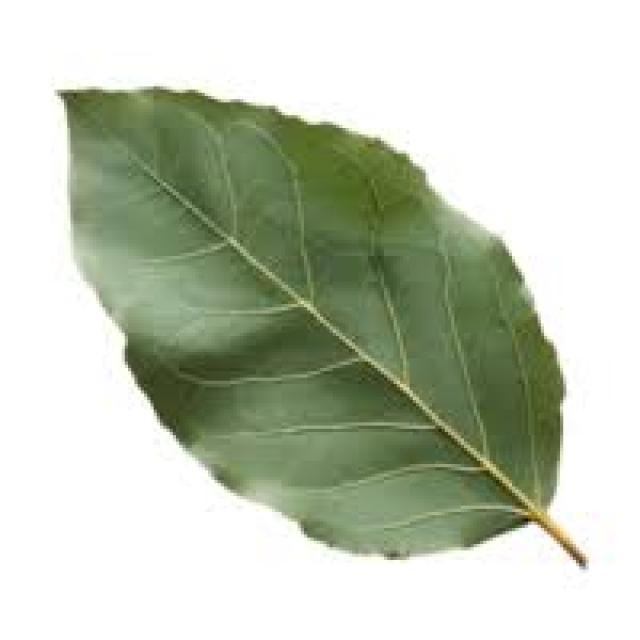leaf: (55, 83, 587, 567)
